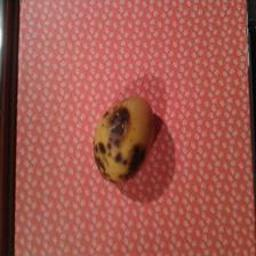Mango Rotten: (82, 81, 157, 189)
